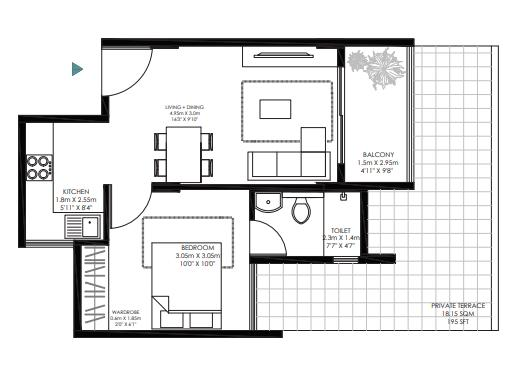Balcony: (347, 48, 408, 184)
Bedroom: (114, 186, 249, 329)
Dining Room: (109, 49, 236, 184)
Dining table: (149, 121, 215, 187)
Kitchen: (25, 121, 109, 241)
Living Room: (235, 46, 343, 182)
Terrace: (256, 48, 496, 329)
Wardrobe: (84, 246, 112, 329)
toilet: (254, 193, 356, 257)
